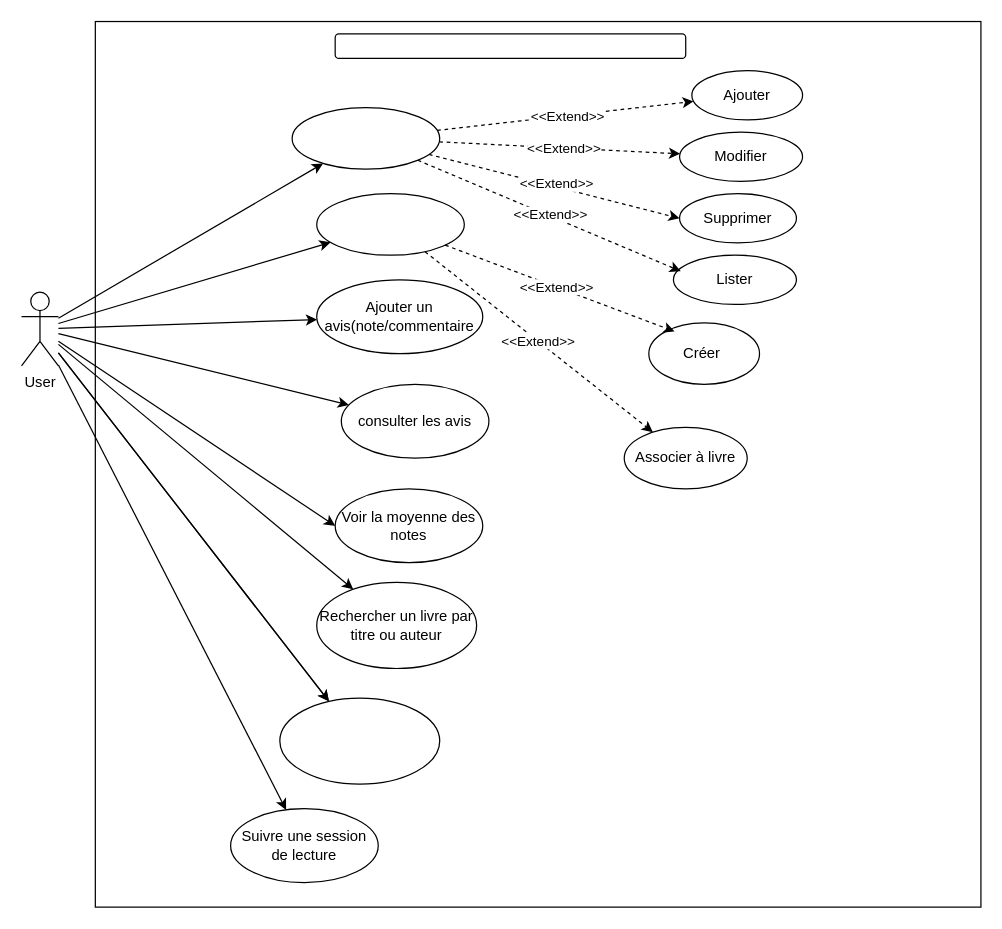
This 1002x929 diagram has some shape labels left out. The centre of each missing label's shape, as x and y in pixels:
App Collection des livres: Uses case: the point at 510,45
Exporter sa collection en Json: the point at 359,740
Gérer les catégories: the point at 389,223
Gérer ses livres: the point at 365,137
